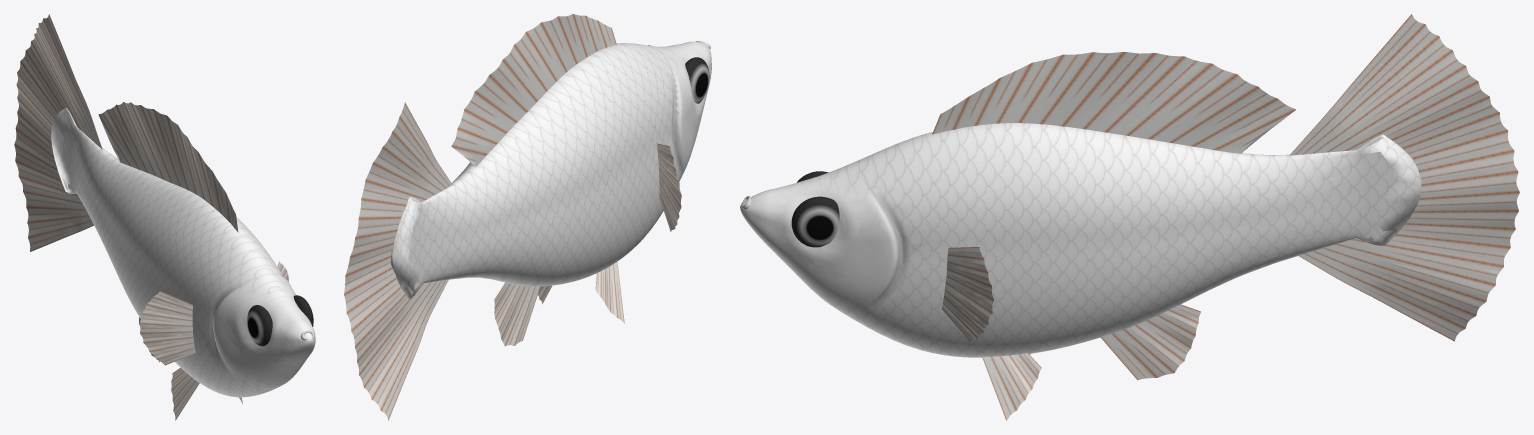
File: molly_long.glb
3 renders of one model, left to right at view 1: azimuth 30°, elevation 25°; view 2: azimuth 150°, elevation 25°; view 3: azimuth 270°, elevation 25°, orthographic. The views are drawn at different scales.
Parts seen in each view (by area): view 1: molly_body, molly_fins_low, molly_fins, molly_body_low; view 2: molly_body, molly_fins_low, molly_fins, molly_body_low; view 3: molly_body, molly_fins, molly_fins_low, molly_body_low.
Part boxes in pixels (box(x1,y1,x2,y2)): molly_body: box(70, 124, 315, 397); molly_fins_low: box(14, 16, 288, 420); molly_fins: box(14, 14, 288, 414); molly_body_low: box(70, 126, 314, 396); molly_body: box(420, 41, 711, 286); molly_fins_low: box(344, 14, 681, 420); molly_fins: box(344, 14, 681, 417); molly_body_low: box(420, 42, 711, 285); molly_body: box(740, 123, 1367, 357); molly_fins: box(939, 14, 1518, 415); molly_fins_low: box(932, 14, 1519, 420); molly_body_low: box(742, 124, 1362, 357).
Size of the model in its own units: 0.3736 by 0.6825 by 1.27.
2 materials, 2 textured.
